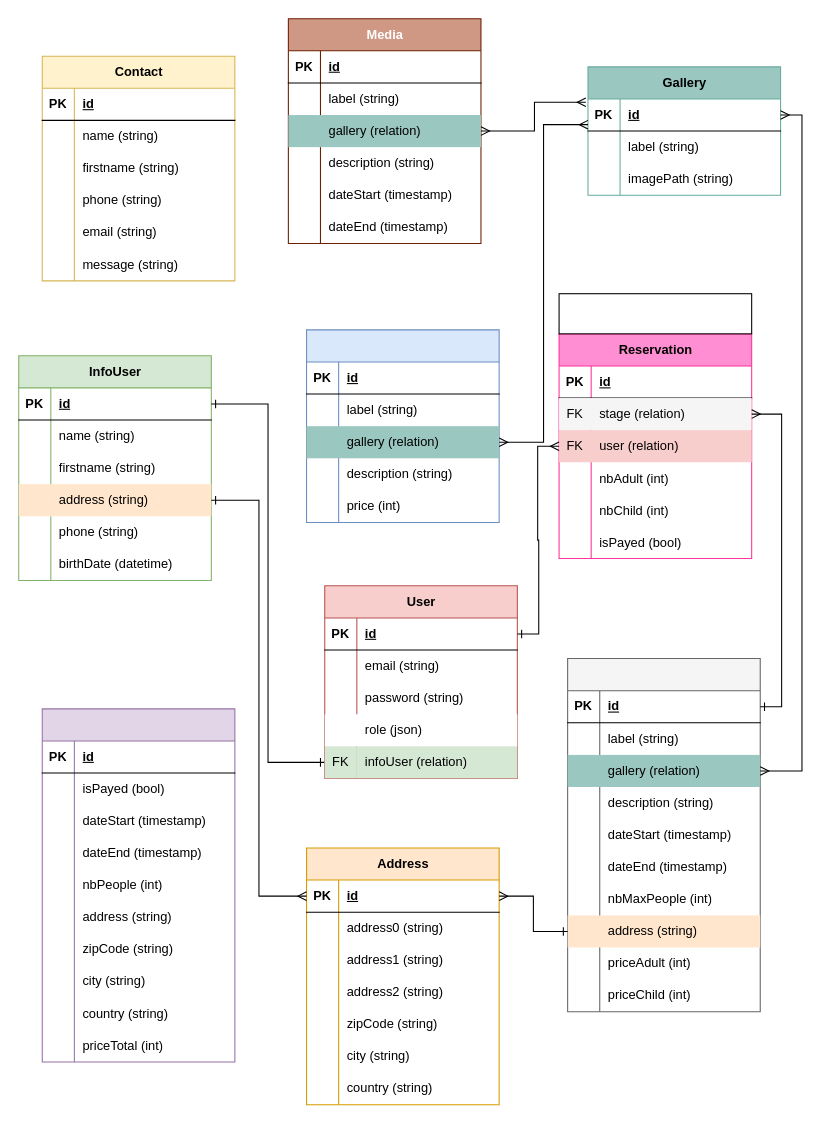
Image size: 830x1124. Some labels were removed from this diagram. The shapes that lost their labels are listed below. From the top down, each one's box as (x1, y1, x2, y2) in pixels, then its label:
(558, 293, 752, 334): utiliser un thread pour gérer le isPayed avec un timeur
(305, 329, 499, 522): Product
(567, 658, 760, 1012): Stage
(41, 708, 235, 1062): Facturation
